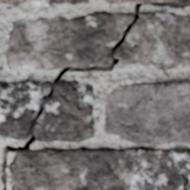brick: (8, 147, 189, 189), (105, 80, 189, 143), (0, 0, 88, 5), (107, 0, 189, 3), (186, 184, 189, 189)
broken_brick: (5, 11, 133, 70), (115, 11, 189, 73), (34, 79, 94, 143), (0, 80, 50, 140)
crack: (0, 1, 189, 189), (179, 165, 189, 189), (138, 168, 146, 189)
